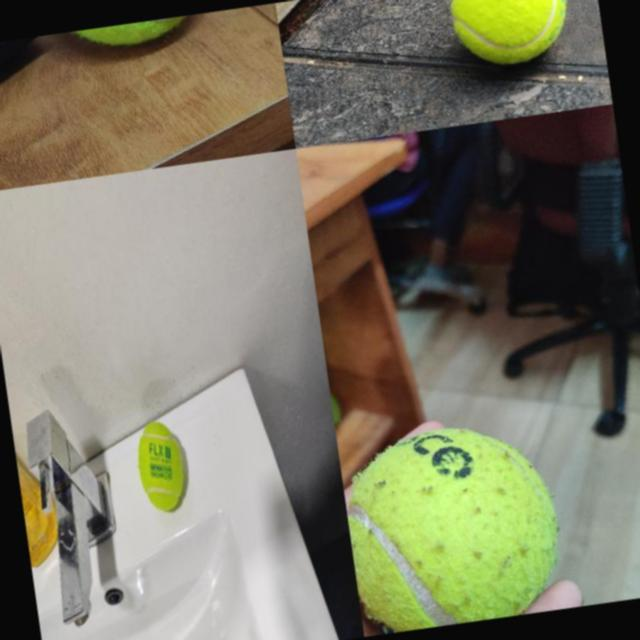Tennis Ball: (338, 413, 568, 636), (444, 0, 574, 73), (133, 418, 189, 515)
